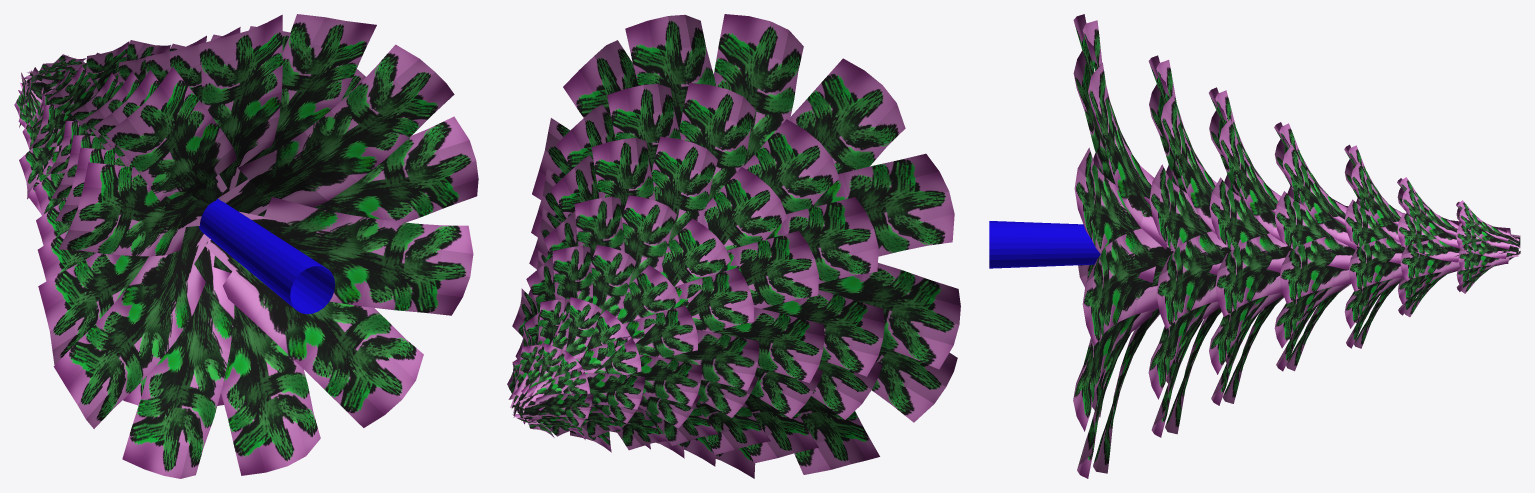
Rendered from PineTree.fbx.
3 renders of one model, left to right at view 1: azimuth 30°, elevation 25°; view 2: azimuth 150°, elevation 25°; view 3: azimuth 270°, elevation 25°, orthographic. The views are drawn at different scales.
Visible parts, largest first — view 1: Circle.001; view 2: Circle.001; view 3: Circle.001.
Part boxes in pixels (x1,y1,x2,y2): Circle.001: [14, 14, 478, 478]; Circle.001: [507, 14, 960, 478]; Circle.001: [989, 14, 1520, 478].
Bounding box in the file's own units: 2216 × 1932 × 1938.
